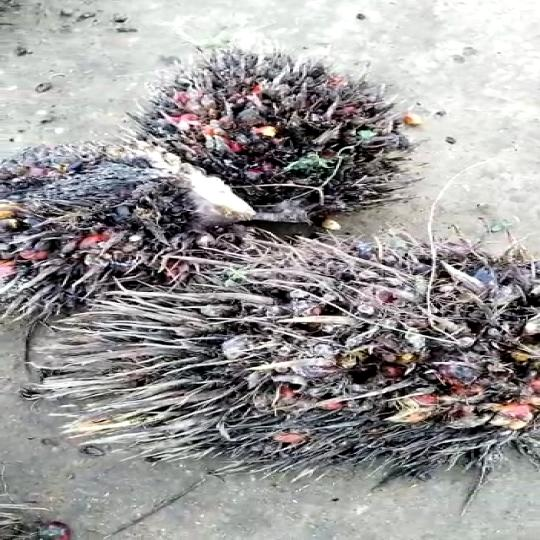terlalu masak: (46, 251, 540, 464), (134, 47, 396, 223), (0, 140, 250, 315)
